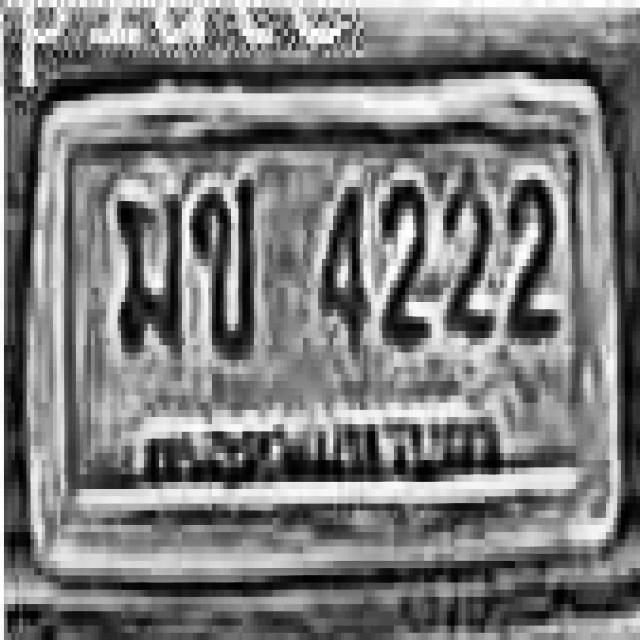license-plate: (21, 61, 627, 598)
